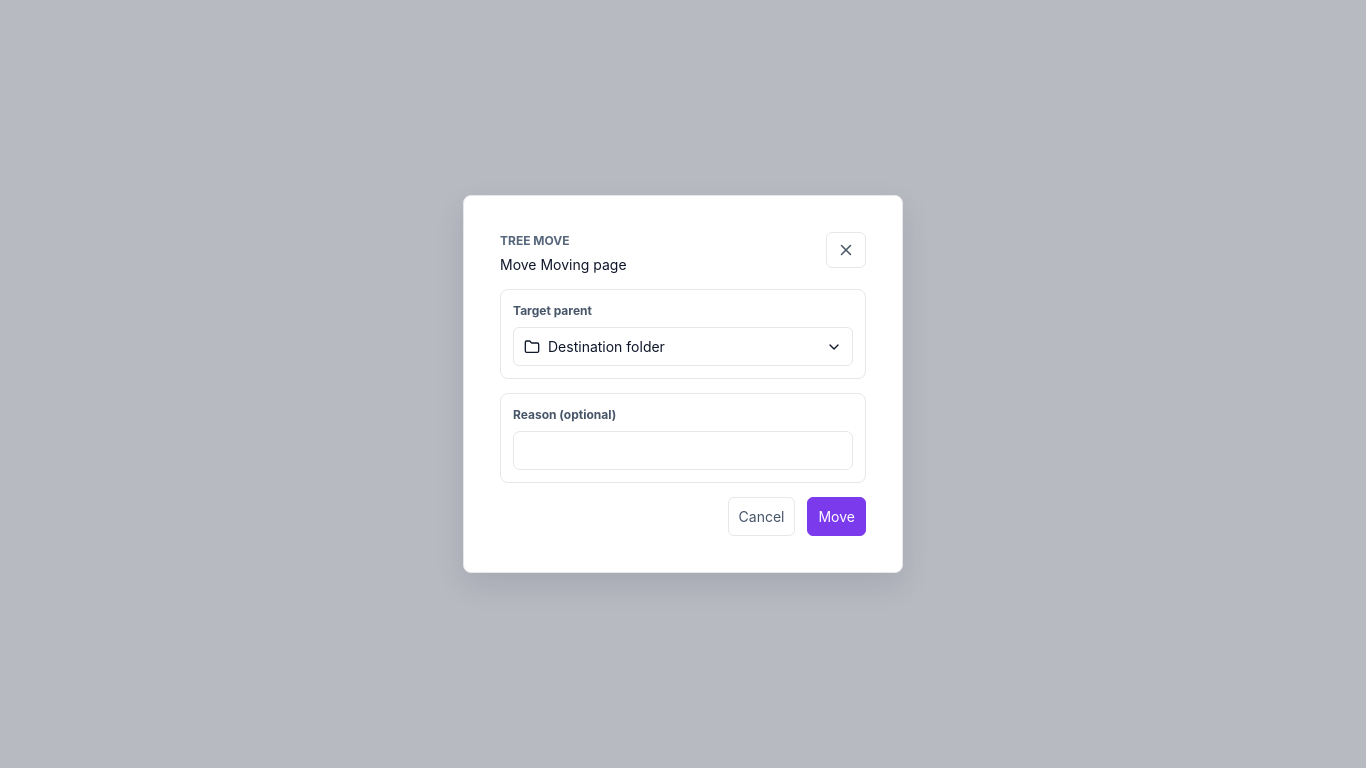
Test: MoveTreeNodeDialog › keeps the Move dialog open while expanding a target branch
What coordinates should you click on to do the following:
click the button with aria-label "Target parent"
I would click on:
 (606, 346)
Its box is [513,327,853,366].
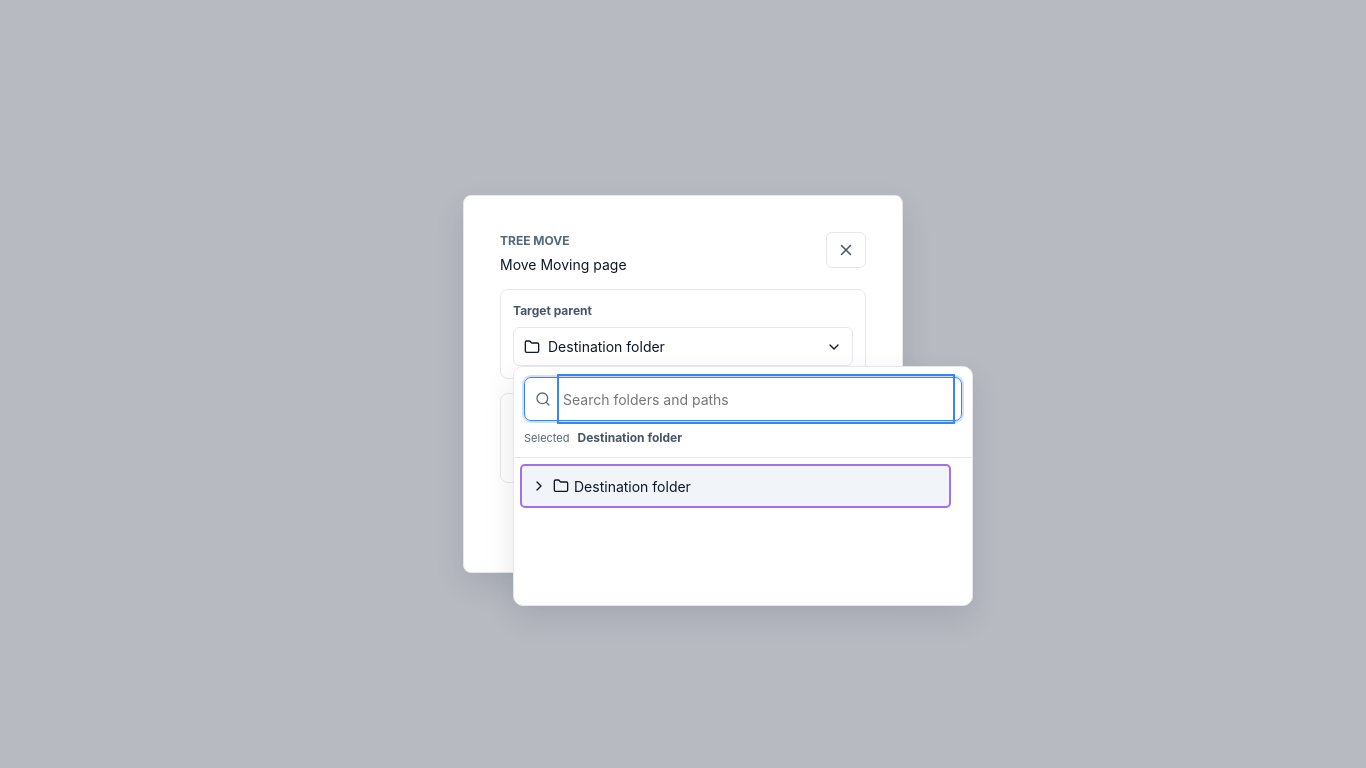
What coordinates should you click on to do the following:
click the button named "Expand Destination folder"
I would click on:
 (539, 486)
Its box is [528,475,550,497].
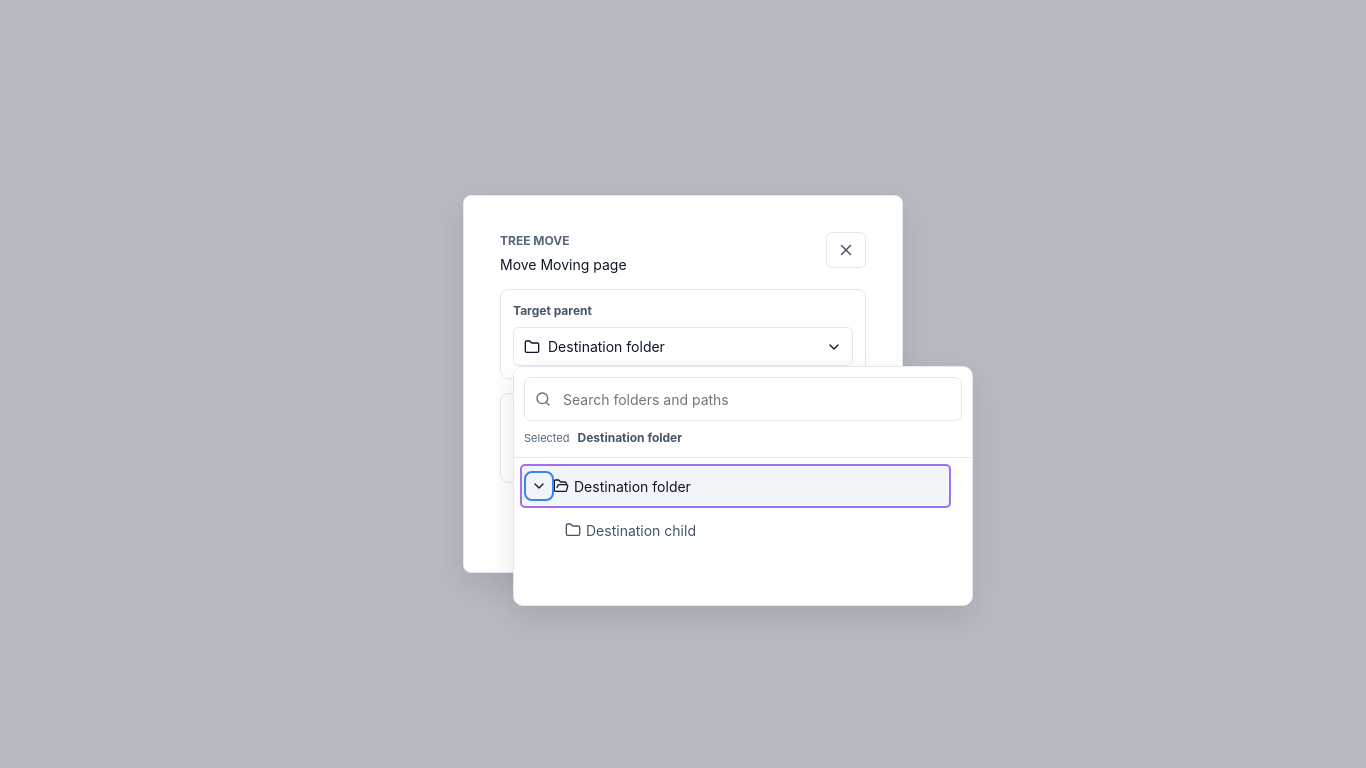
Check: the dialog "Move Moving page" is shown, box [463,195,903,573]
Check: the list item "Destination child" is shown, box [565,522,696,538]
Check: the button named "Expand Destination folder" is expanded, box [528,475,550,497]
